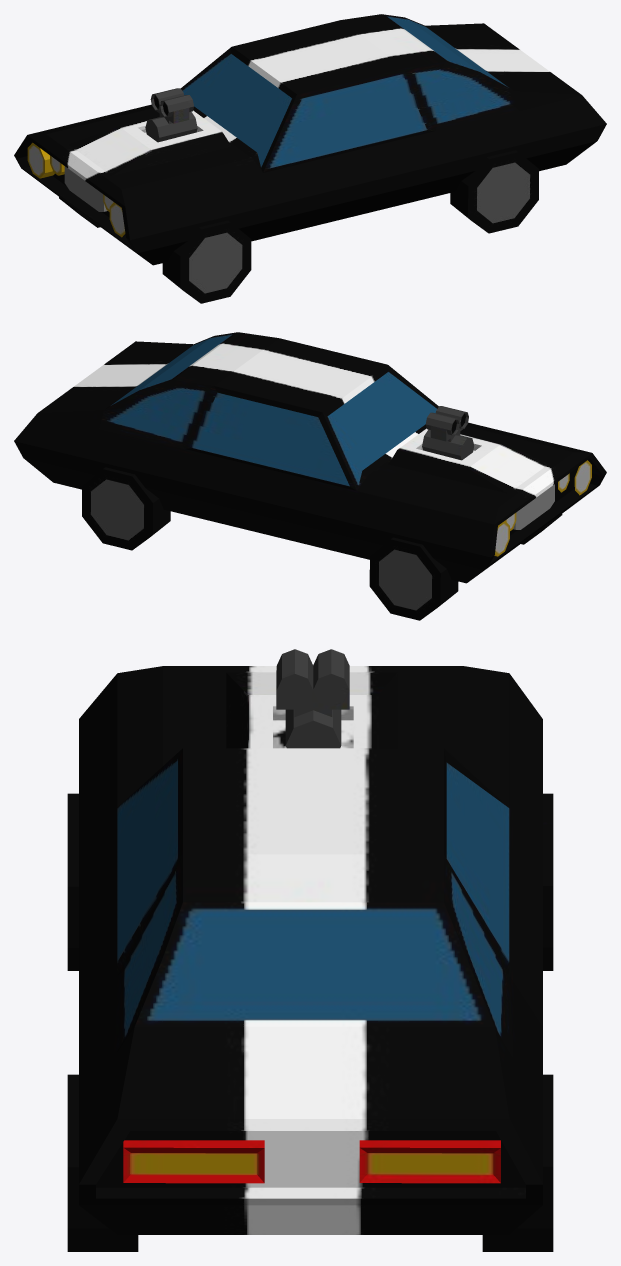
Rendered from Dodge.fbx.
3 renders of one model, top to bottom at view 1: azimuth 30°, elevation 25°; view 2: azimuth 150°, elevation 25°; view 3: azimuth 270°, elevation 25°, orthographic. The views are drawn at different scales.
Parts seen in each view (by area): view 1: Dodge, Dodge (F-L), Dodge (B-L); view 2: Dodge, Dodge (F-R), Dodge (B-R); view 3: Dodge, Dodge (B-L), Dodge (B-R), Dodge (F-L), Dodge (F-R).
Part boxes in pixels (x1=…): Dodge: x1=14, y1=14, x2=606, y2=265; Dodge (F-L): x1=162, y1=220, x2=251, y2=303; Dodge (B-L): x1=450, y1=150, x2=539, y2=233; Dodge: x1=14, y1=332, x2=606, y2=583; Dodge (F-R): x1=369, y1=537, x2=458, y2=620; Dodge (B-R): x1=82, y1=467, x2=170, y2=550; Dodge: x1=79, y1=649, x2=542, y2=1234; Dodge (B-L): x1=67, y1=1074, x2=138, y2=1251; Dodge (B-R): x1=482, y1=1074, x2=553, y2=1251; Dodge (F-L): x1=67, y1=793, x2=78, y2=970; Dodge (F-R): x1=543, y1=793, x2=553, y2=970.
Bounding box in the file's own units: 289 × 91.47 × 128.
Materials: 1 (1 with a texture image).
